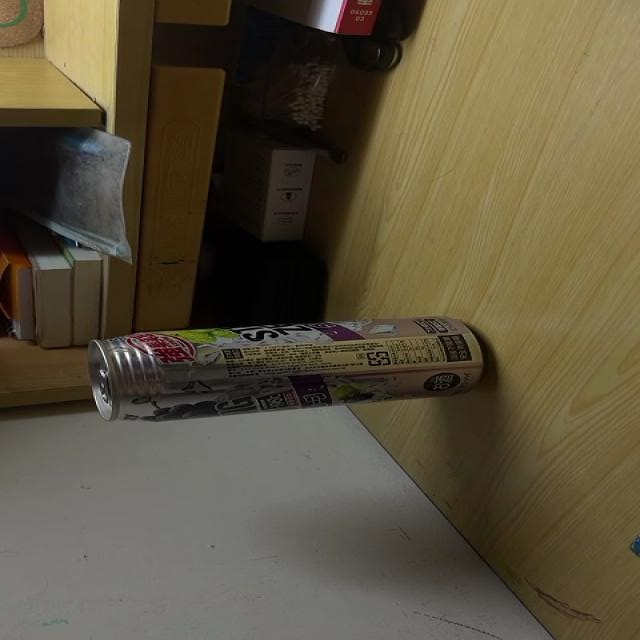Liquor: (85, 316, 488, 424)
